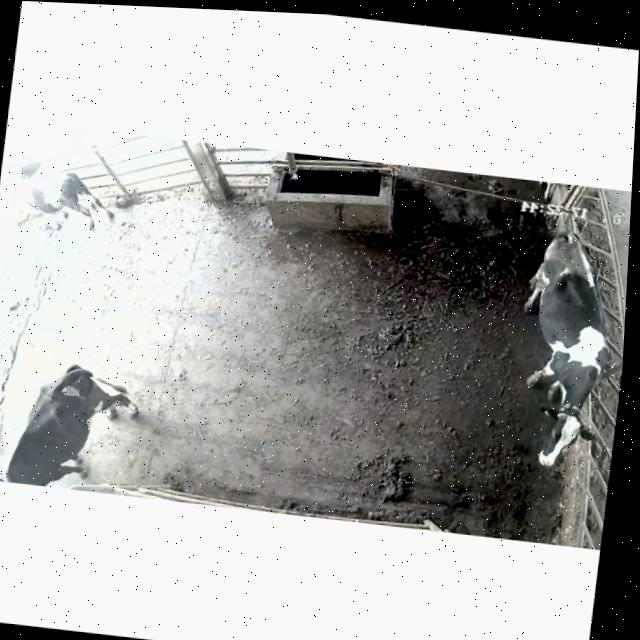stand: (492, 224, 624, 489), (0, 338, 160, 497), (0, 147, 124, 239)
